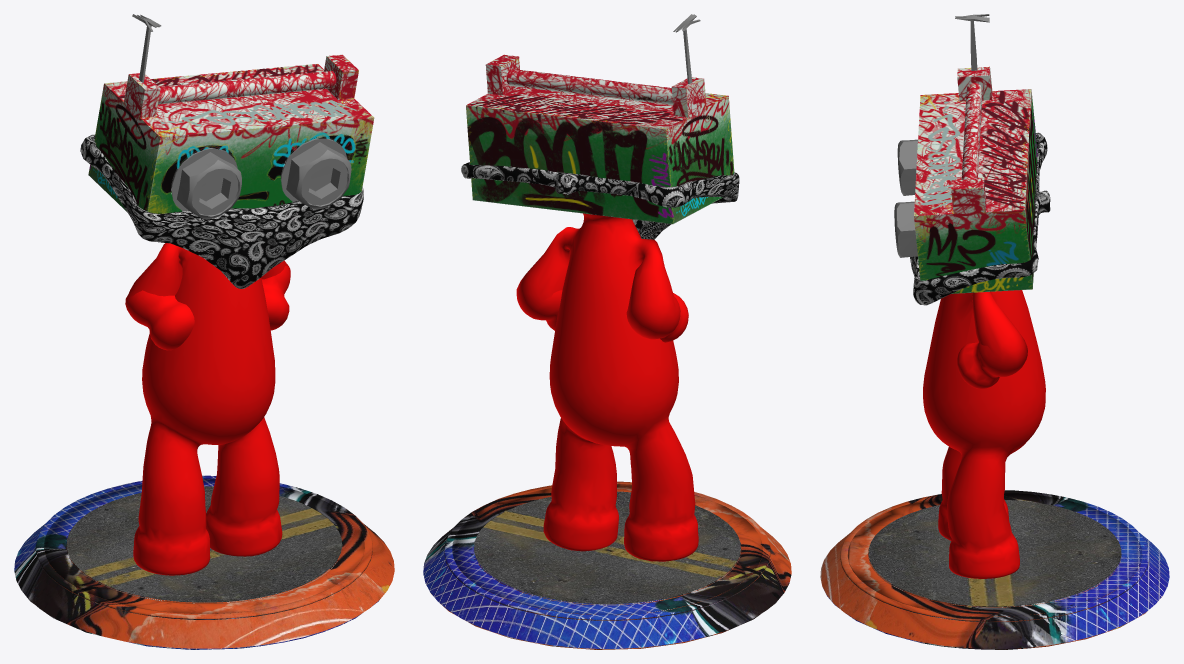
3 renders of one model, left to right at view 1: azimuth 30°, elevation 25°; view 2: azimuth 150°, elevation 25°; view 3: azimuth 270°, elevation 25°, orthographic. The views are drawn at different scales.
Parts seen in each view (by area): view 1: BBody; view 2: BBody; view 3: BBody.
Boxes of the visible parts, box(x1,y1,x2,y2) form: BBody: box(14, 14, 394, 649); BBody: box(423, 14, 791, 649); BBody: box(820, 14, 1169, 649).
Size of the model in its own units: 1.45 by 2.42 by 1.45.
Materials: 6 (4 with a texture image).
